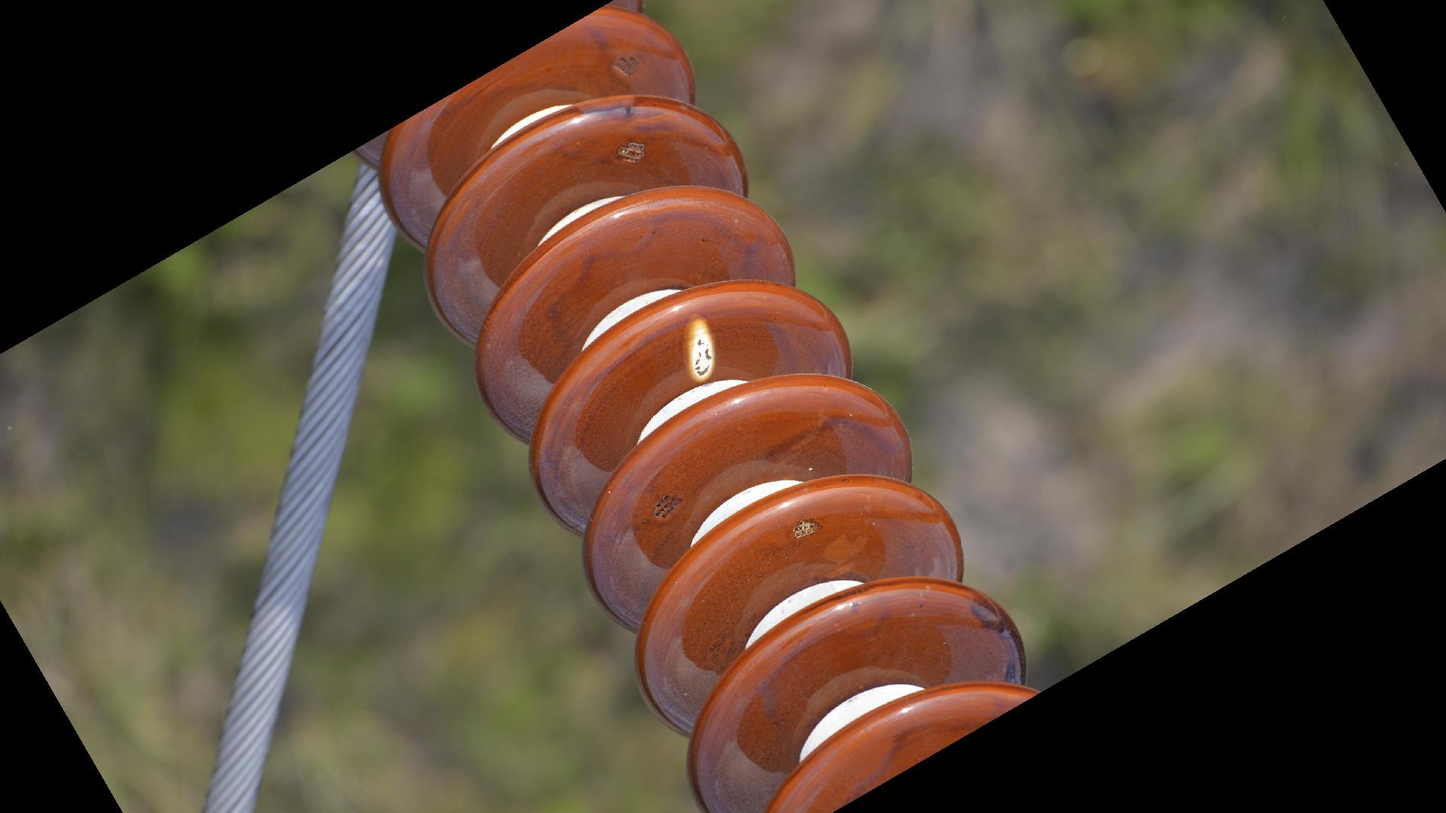insulator: (352, 1, 1043, 813)
insulator_flashover: (682, 311, 723, 384)
